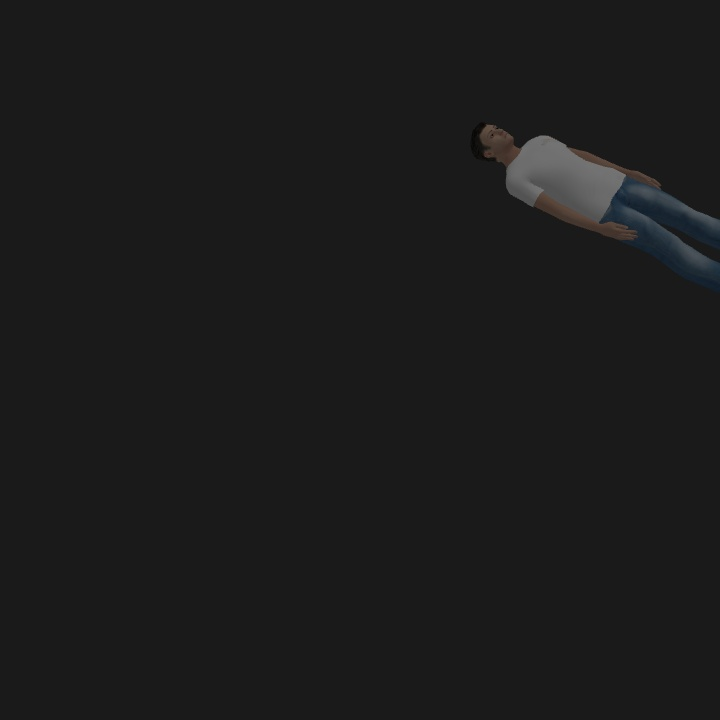victim: (473, 121, 720, 283)
